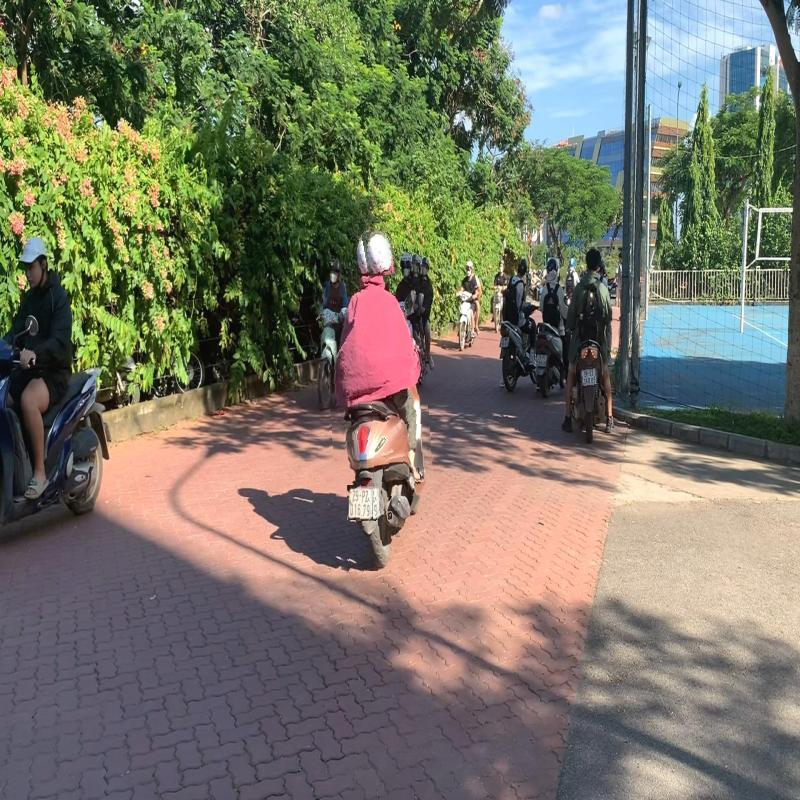helmet: (363, 229, 396, 277)
licenseplate: (347, 485, 373, 520), (582, 369, 598, 390)
motorcyclist: (324, 222, 434, 571), (561, 247, 617, 447)
nohelmet: (585, 248, 602, 273)
